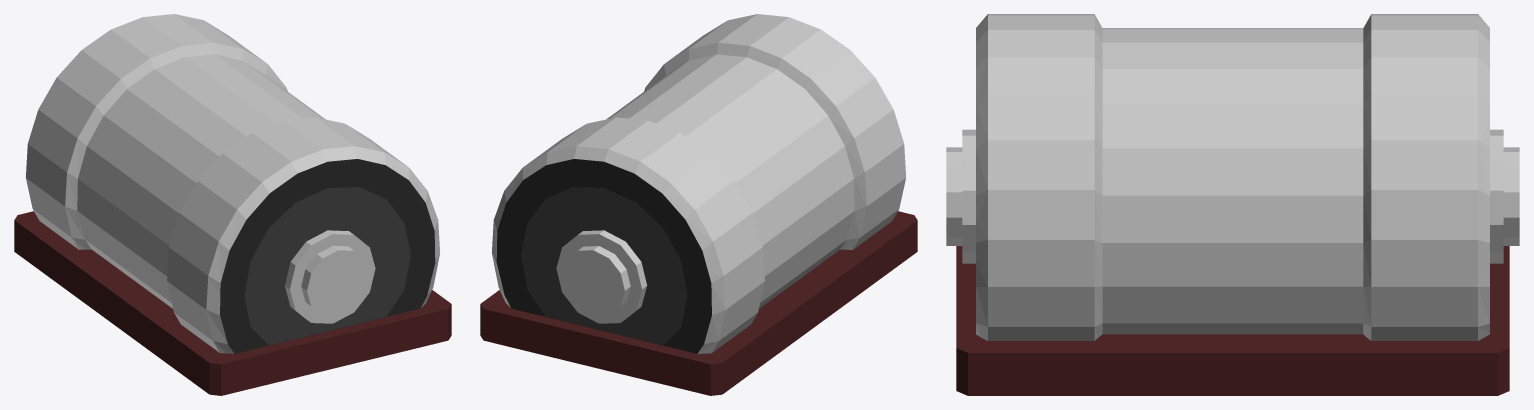
File: vce_tank_deep.obj
The picture shows the model from 3 angles, left to right: view 1: azimuth 30°, elevation 25°; view 2: azimuth 150°, elevation 25°; view 3: azimuth 270°, elevation 25°; orthographic projection. The views are drawn at different scales.
Bounding box in the file's own units: 1.92 × 1.6 × 2.9.
